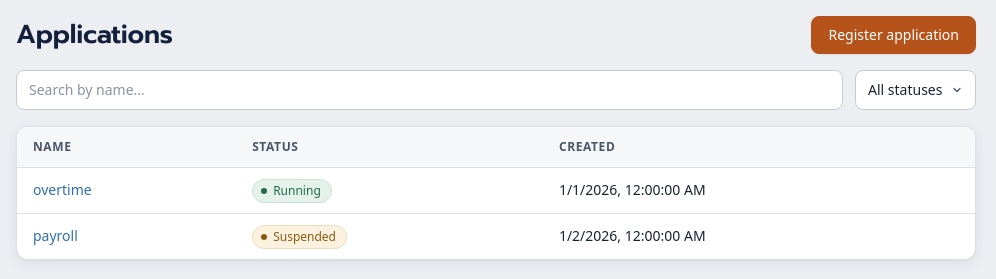
Test: ApplicationList › filters the list by lifecycle status
The width and height of the screenshot is (996, 279).
Expected: the link "overtime" is shown, [33,180,92,199]
Select "suspended" in the dropdown named "filter by lifecycle status": (916,90) [855,70,976,110]
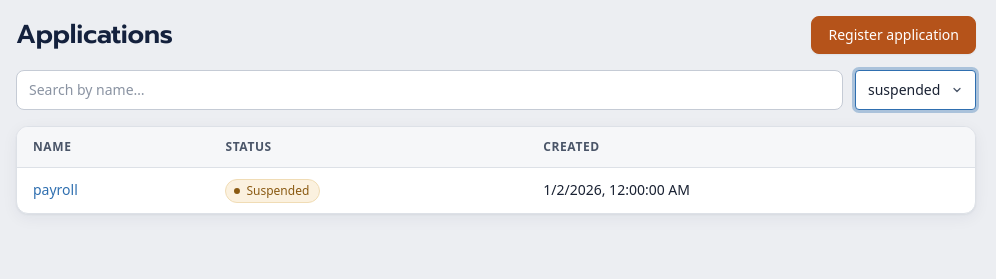
Expected: the link "payroll" is shown, [33,180,78,199]
Now the link "overtime" is gone
